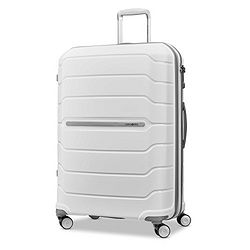luggage: (53, 9, 193, 239)
